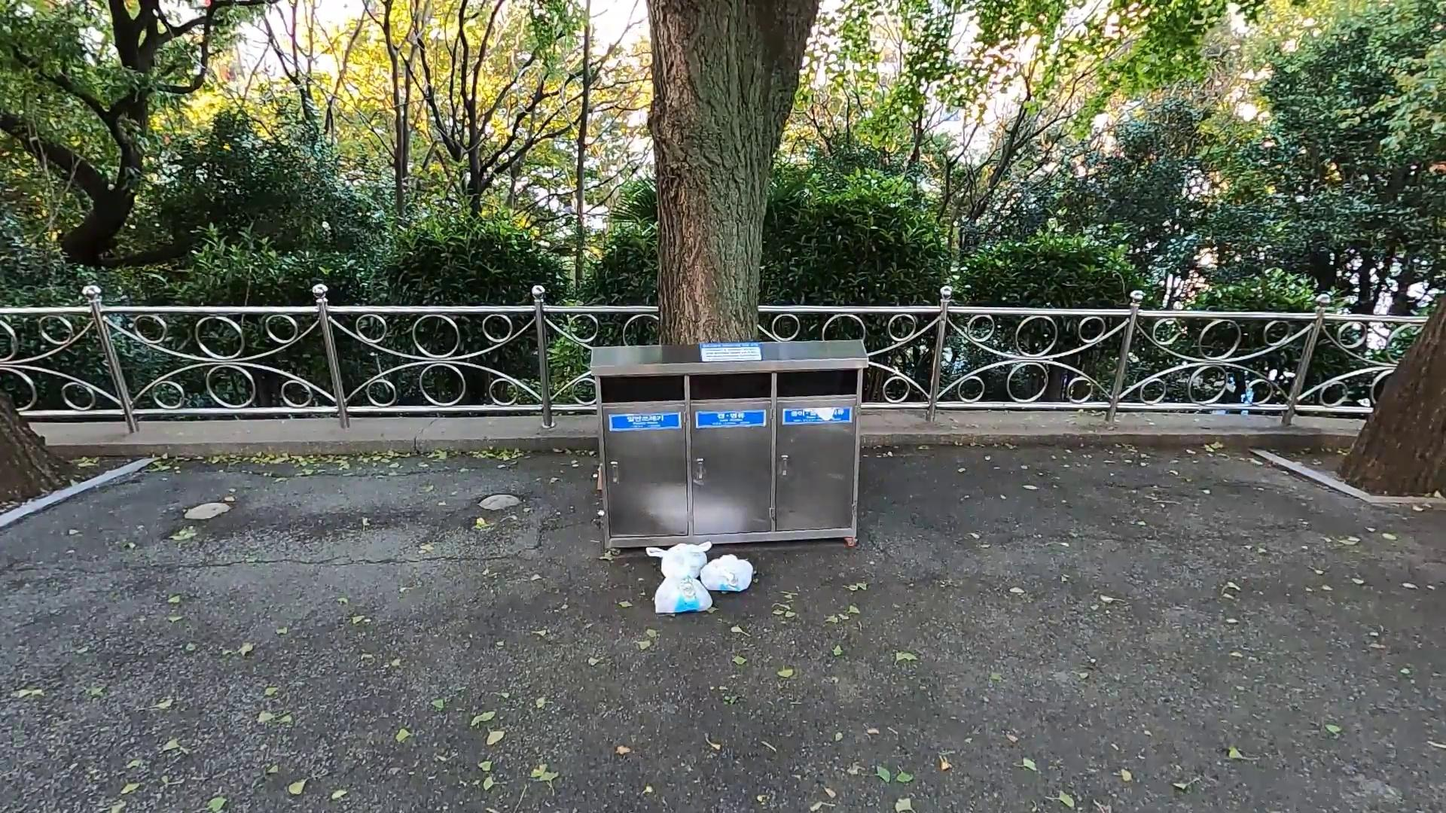trash: (654, 569, 713, 617), (644, 541, 712, 581), (700, 554, 754, 595)
